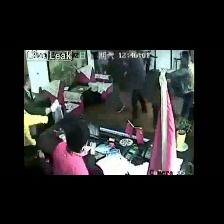person: (168, 51, 194, 119), (124, 58, 147, 119)
